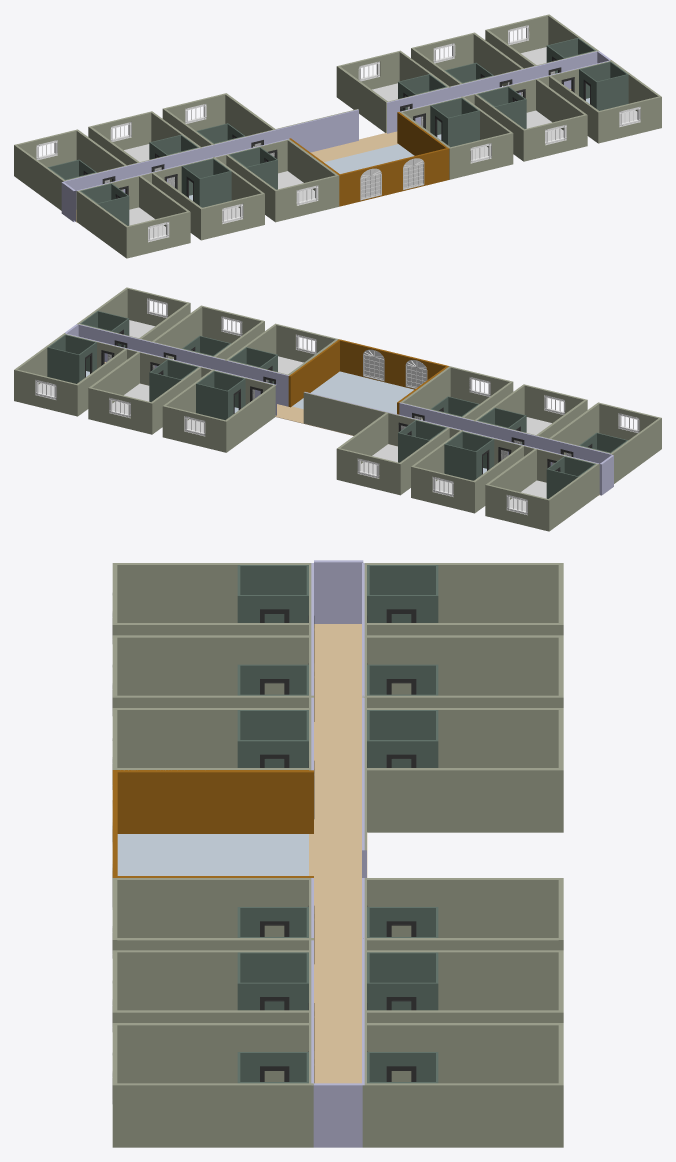
3 renders of one model, top to bottom at view 1: azimuth 30°, elevation 25°; view 2: azimuth 150°, elevation 25°; view 3: azimuth 270°, elevation 25°, orthographic. The views are drawn at different scales.
Parts seen in each view (by area): view 1: sit_windowframe, hall_middlewall1.007, room_wall4.009, room_wall4.005, room_wall4.002, room_wall4.001, room_wall4.004, room_wall4.008, room_wall3.002, room_wall2.010, room_wall3.003, sit_hallwall2 (+60 smaller); view 2: hall_middlewall1.007, sit_floor, sit_windowframe, room_wall4.010, room_wall4.011, room_wall4.007, room_wall4.003, room_wall4.012, room_wall4.006, sit_hallwall2, room_wall3.003, room_wall2.010 (+58 smaller); view 3: hall floor, room_wall3.008, room_wall3.012, sit_hallwall, room_wall2.007, room_wall2.004, room_wall2.006, room_wall2.008, room_wall2.012, room_wall2.001, room_wall2.010, sit_floor (+34 smaller).
Part boxes in pixels (x1=…): sit_windowframe: x1=340, y1=148, x2=447, y2=205; hall_middlewall1.007: x1=267, y1=109, x2=358, y2=152; room_wall4.009: x1=522, y1=114, x2=587, y2=161; room_wall4.005: x1=274, y1=175, x2=339, y2=222; room_wall4.002: x1=125, y1=211, x2=190, y2=258; room_wall4.001: x1=448, y1=132, x2=513, y2=179; room_wall4.004: x1=200, y1=193, x2=264, y2=240; room_wall4.008: x1=597, y1=96, x2=661, y2=143; room_wall3.002: x1=76, y1=191, x2=126, y2=257; room_wall2.010: x1=338, y1=66, x2=387, y2=132; room_wall3.003: x1=15, y1=145, x2=64, y2=210; sit_hallwall2: x1=397, y1=112, x2=449, y2=179; hall_middlewall1.007: x1=303, y1=392, x2=395, y2=445; sit_floor: x1=292, y1=371, x2=413, y2=413; sit_windowframe: x1=340, y1=339, x2=446, y2=389; room_wall4.010: x1=162, y1=405, x2=227, y2=452; room_wall4.011: x1=88, y1=387, x2=153, y2=434; room_wall4.007: x1=336, y1=448, x2=401, y2=495; room_wall4.003: x1=485, y1=484, x2=550, y2=531; room_wall4.012: x1=14, y1=369, x2=78, y2=416; room_wall4.006: x1=411, y1=466, x2=475, y2=513; sit_hallwall2: x1=288, y1=339, x2=340, y2=407; room_wall3.003: x1=549, y1=464, x2=599, y2=530; room_wall2.010: x1=226, y1=385, x2=275, y2=451; hall floor: x1=309, y1=624, x2=367, y2=1083; room_wall3.008: x1=117, y1=1083, x2=313, y2=1147; room_wall3.012: x1=362, y1=1083, x2=558, y2=1147; sit_hallwall: x1=112, y1=770, x2=313, y2=833; room_wall2.007: x1=367, y1=768, x2=558, y2=832; room_wall2.004: x1=117, y1=635, x2=308, y2=695; room_wall2.006: x1=367, y1=635, x2=558, y2=695; room_wall2.008: x1=117, y1=1023, x2=308, y2=1083; room_wall2.012: x1=367, y1=1023, x2=558, y2=1083; room_wall2.001: x1=117, y1=878, x2=308, y2=937; room_wall2.010: x1=367, y1=878, x2=558, y2=937; sit_floor: x1=117, y1=834, x2=308, y2=875.
Bounding box in the file's own units: 5104 × 283 × 1854.
